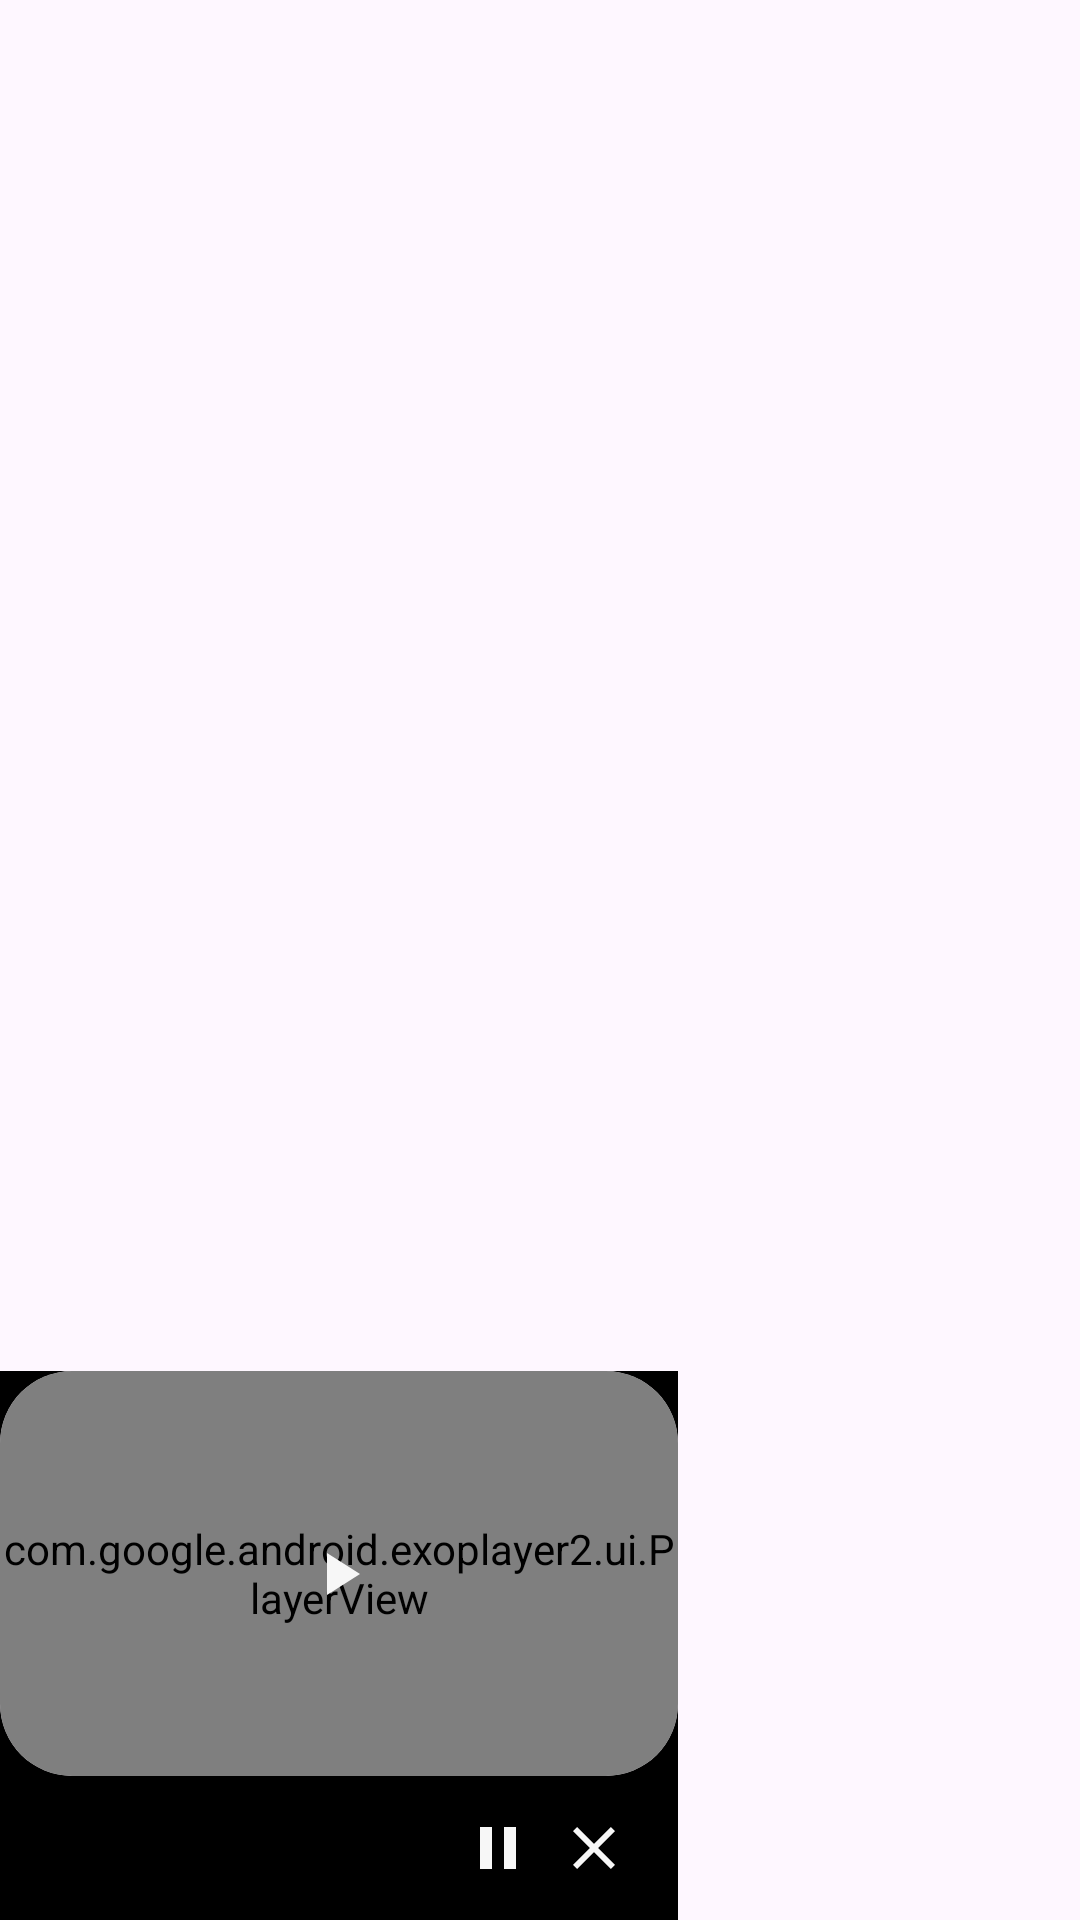

Point at icon controls on the screen. Image size 1080x1920, points as (x=x, y=y).
close: (x=594, y=1848)
pause: (x=498, y=1848)
play arrow: (x=339, y=1574)
